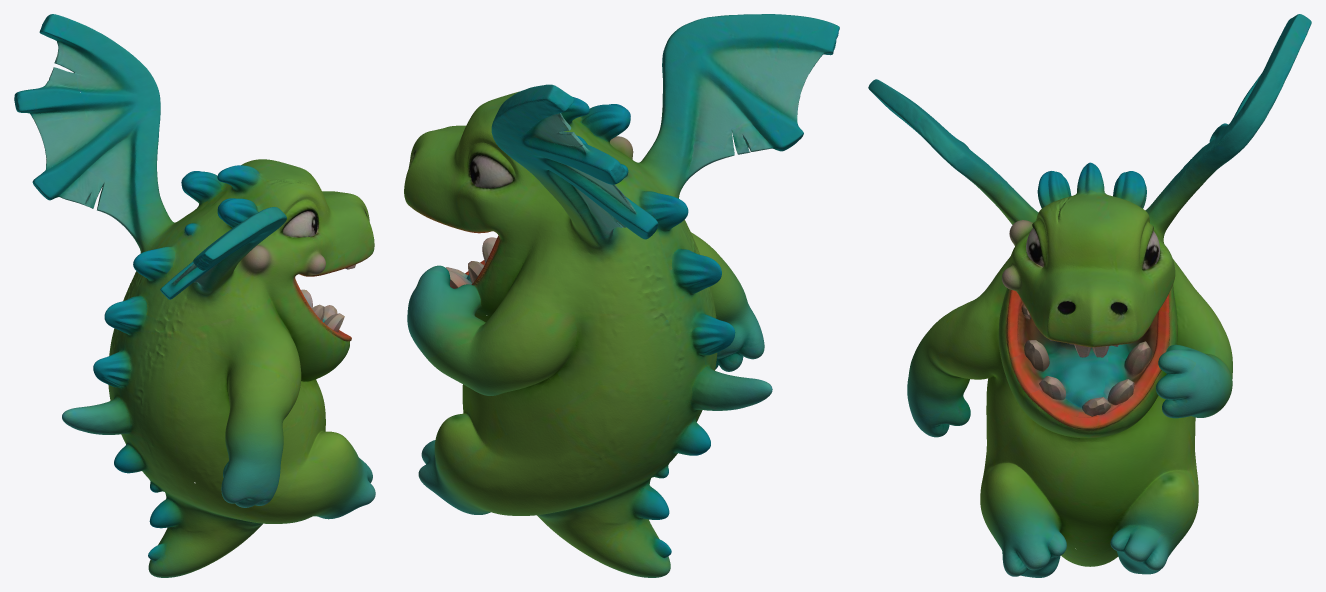
File: barbarian_warrior.glb
The picture shows the model from 3 angles, left to right: view 1: azimuth 30°, elevation 25°; view 2: azimuth 150°, elevation 25°; view 3: azimuth 270°, elevation 25°; orthographic projection. The views are drawn at different scales.
Visible parts, largest first — view 1: tripo_node_5c2f666f-2599-40fd-b605-22264084f46f; view 2: tripo_node_5c2f666f-2599-40fd-b605-22264084f46f; view 3: tripo_node_5c2f666f-2599-40fd-b605-22264084f46f.
Part boxes in pixels (x1,y1,x2,y2): tripo_node_5c2f666f-2599-40fd-b605-22264084f46f: [14, 14, 375, 577]; tripo_node_5c2f666f-2599-40fd-b605-22264084f46f: [404, 14, 839, 577]; tripo_node_5c2f666f-2599-40fd-b605-22264084f46f: [868, 14, 1311, 577].
Bounding box in the file's own units: 0.6522 × 1 × 0.7582.
Materials: 1 (1 with a texture image).
